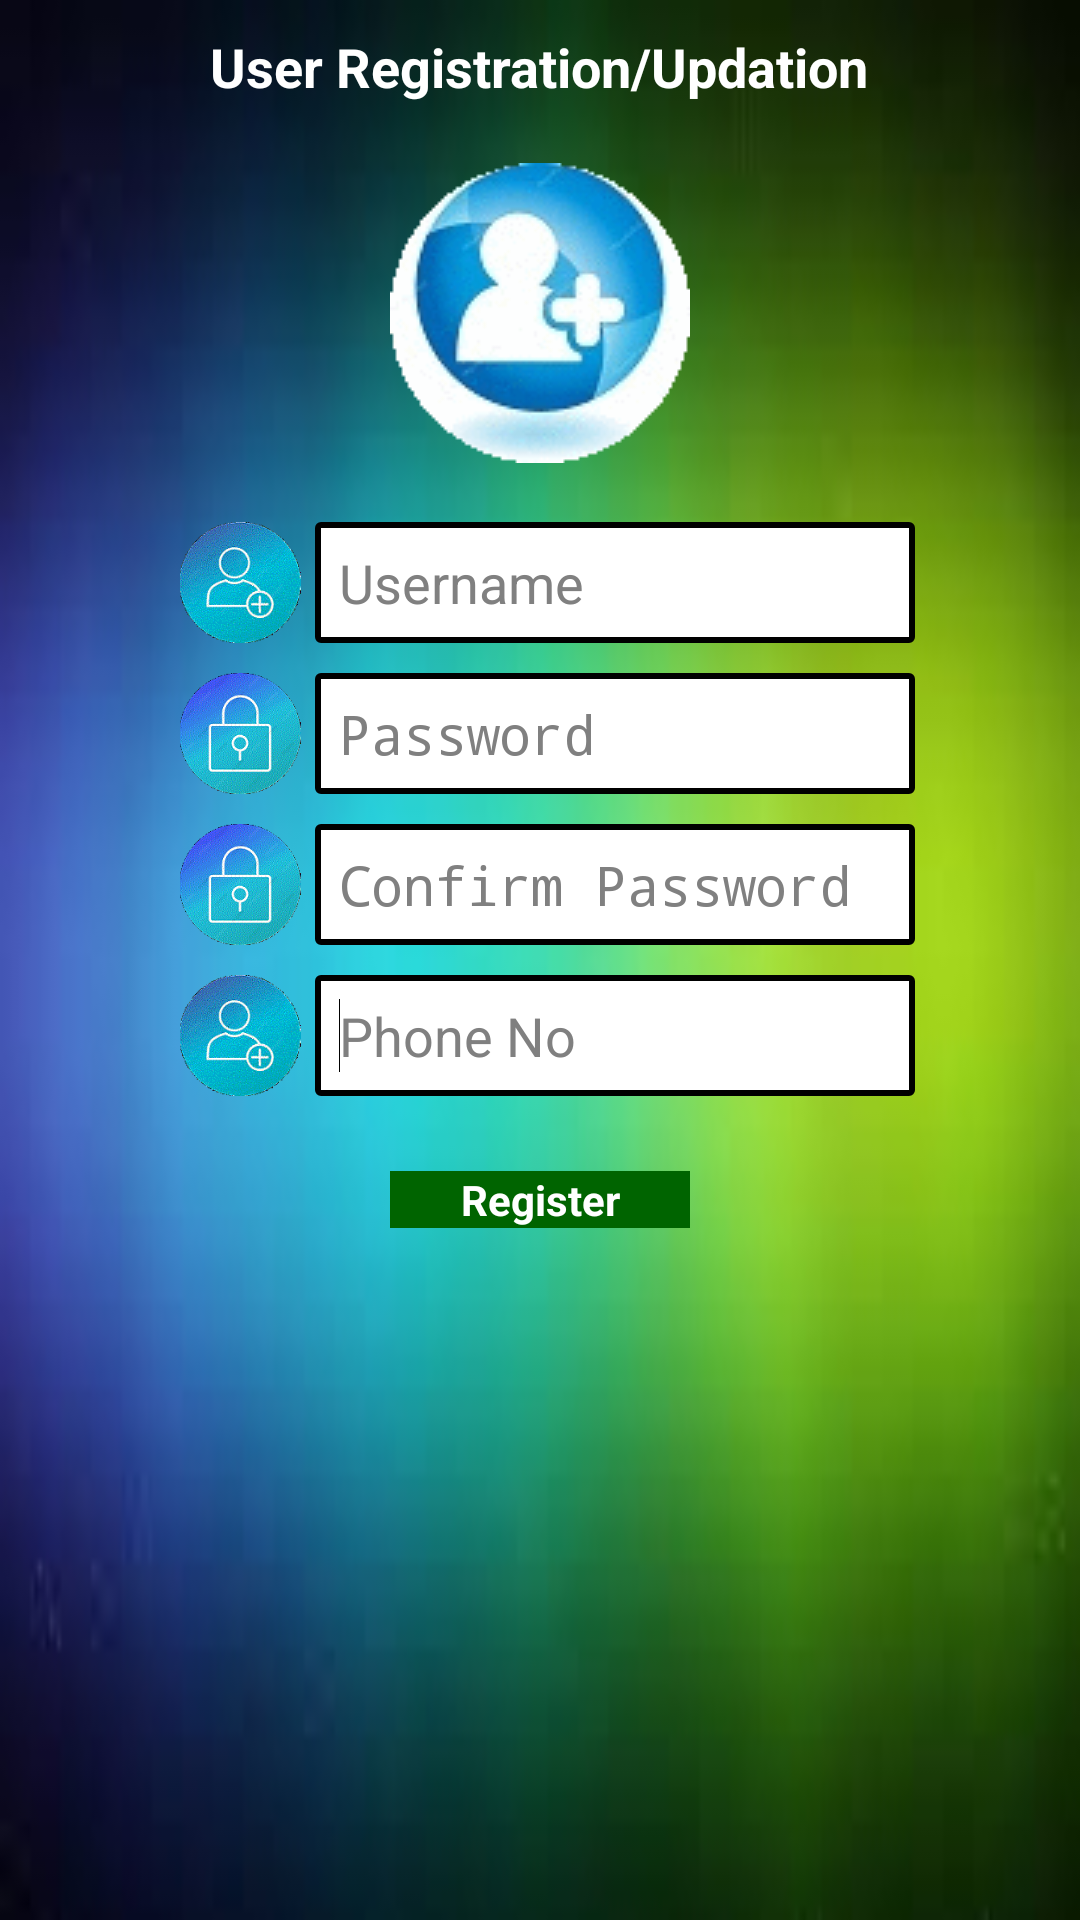

Where to tap for icons on this 1080px×1920px app screen, as [x,y]:
profile: [240,582], [240,1035]
profilepic: [540,313]
